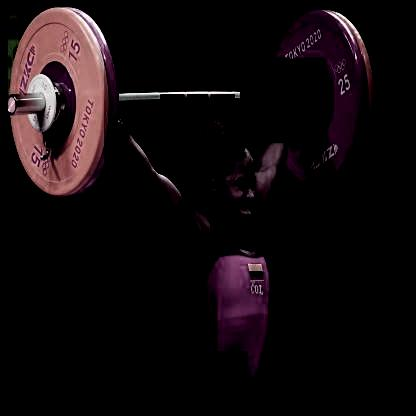barbell: (10, 7, 105, 199), (269, 9, 364, 190)
